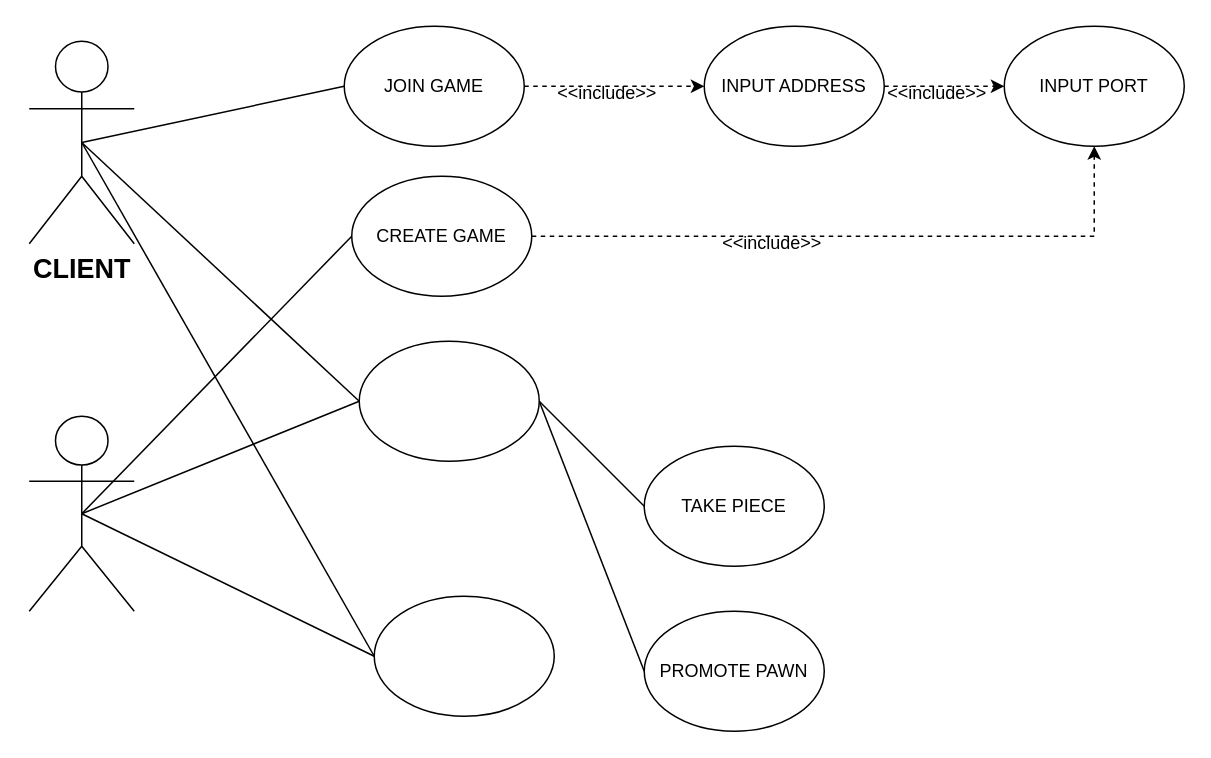
The diagram is 1211 pixels wide and 758 high, and some of its shapes have lost their labels. The shapes that lost their labels are listed below. From the top down, each one's centre as x and y in pixels, then its label:
At (448,400): "MOVE PIECE".
At (81,513): "SERVER".
At (463,655): "DISCONECT".
